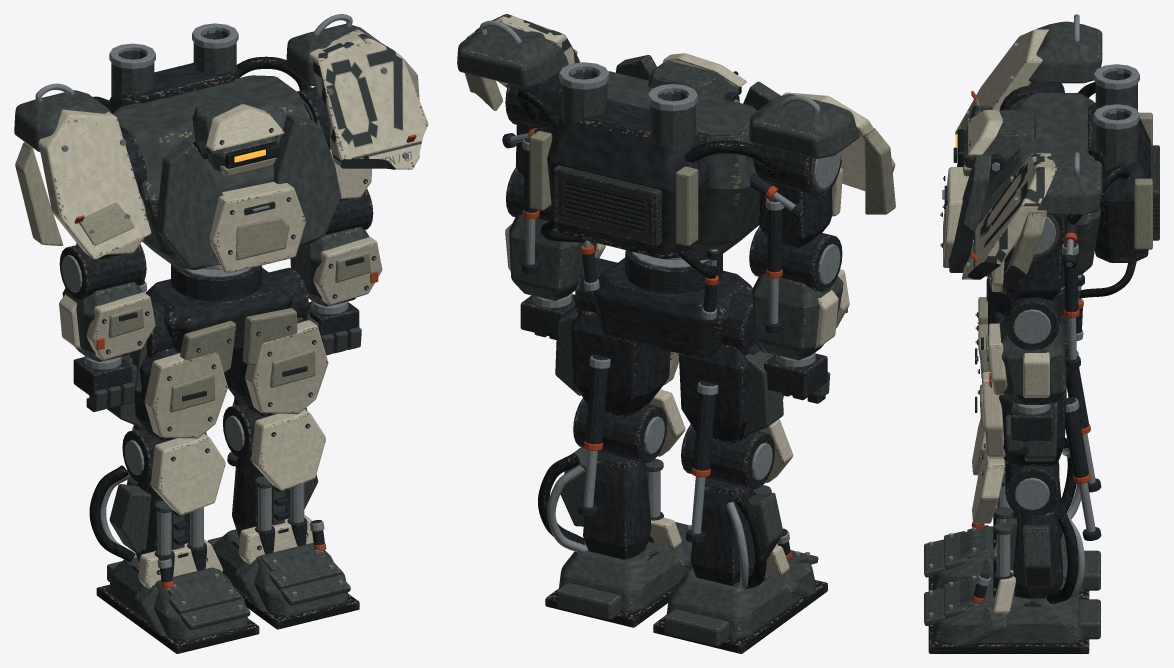
Rendered from warden.glb.
The picture shows the model from 3 angles, left to right: view 1: azimuth 30°, elevation 25°; view 2: azimuth 150°, elevation 25°; view 3: azimuth 270°, elevation 25°; orthographic projection. The views are drawn at different scales.
Visible parts, largest first — view 1: spine.geometry, pauldron.R.geometry, pauldron.L.geometry, knee.R.geometry, knee.L.geometry, ankle.R.geometry, ankle.L.geometry, elbow.R.geometry, pelvis.geometry, hip.R.geometry, hip.L.geometry, elbow.L.geometry (+5 smaller); view 2: spine.geometry, knee.L.geometry, knee.R.geometry, ankle.R.geometry, pauldron.R.geometry, elbow.R.geometry, ankle.L.geometry, pelvis.geometry, hip.R.geometry, hip.L.geometry, pauldron.L.geometry, shoulder.R.geometry (+11 smaller); view 3: spine.geometry, knee.L.geometry, ankle.L.geometry, pauldron.L.geometry, elbow.L.geometry, pauldron.R.geometry, ankle.R.geometry, neck.geometry, hip.L.geometry, shoulder.L.geometry, wrist.L.geometry, knee.R.geometry (+9 smaller).
Boxes of the visible parts, left/top/right/bottom form: spine.geometry: left=93, top=23, right=341, bottom=301; pauldron.R.geometry: left=14, top=83, right=151, bottom=259; pauldron.L.geometry: left=286, top=14, right=428, bottom=169; knee.R.geometry: left=89, top=428, right=225, bottom=576; knee.L.geometry: left=223, top=404, right=325, bottom=554; ankle.R.geometry: left=96, top=539, right=259, bottom=653; ankle.L.geometry: left=207, top=514, right=359, bottom=629; elbow.R.geometry: left=59, top=244, right=155, bottom=361; pelvis.geometry: left=129, top=267, right=311, bottom=392; hip.R.geometry: left=106, top=300, right=227, bottom=440; hip.L.geometry: left=224, top=267, right=328, bottom=416; elbow.L.geometry: left=290, top=189, right=382, bottom=306; spine.geometry: left=516, top=55, right=780, bottom=293; knee.L.geometry: left=538, top=389, right=685, bottom=559; knee.R.geometry: left=681, top=419, right=793, bottom=591; ankle.R.geometry: left=653, top=545, right=827, bottom=653; pauldron.R.geometry: left=749, top=92, right=895, bottom=214; elbow.R.geometry: left=749, top=226, right=849, bottom=360; ankle.L.geometry: left=545, top=517, right=692, bottom=627; pelvis.geometry: left=592, top=257, right=767, bottom=357; hip.R.geometry: left=678, top=293, right=783, bottom=443; hip.L.geometry: left=555, top=257, right=678, bottom=416; pauldron.L.geometry: left=457, top=14, right=580, bottom=110; shoulder.R.geometry: left=753, top=143, right=842, bottom=248; spine.geometry: left=940, top=64, right=1159, bottom=315; knee.L.geometry: left=972, top=447, right=1085, bottom=603; ankle.L.geometry: left=924, top=570, right=1100, bottom=653; pauldron.L.geometry: left=962, top=152, right=1102, bottom=279; elbow.L.geometry: left=981, top=293, right=1066, bottom=404; pauldron.R.geometry: left=955, top=14, right=1102, bottom=134; ankle.R.geometry: left=924, top=525, right=1100, bottom=599; neck.geometry: left=953, top=110, right=1035, bottom=176; hip.L.geometry: left=975, top=369, right=1066, bottom=466; shoulder.L.geometry: left=990, top=215, right=1065, bottom=300; wrist.L.geometry: left=1005, top=402, right=1053, bottom=454; knee.R.geometry: left=972, top=418, right=1081, bottom=548.
Size of the model in its own units: 4.87 by 6.24 by 2.54.
Materials: 3 (1 with a texture image).
